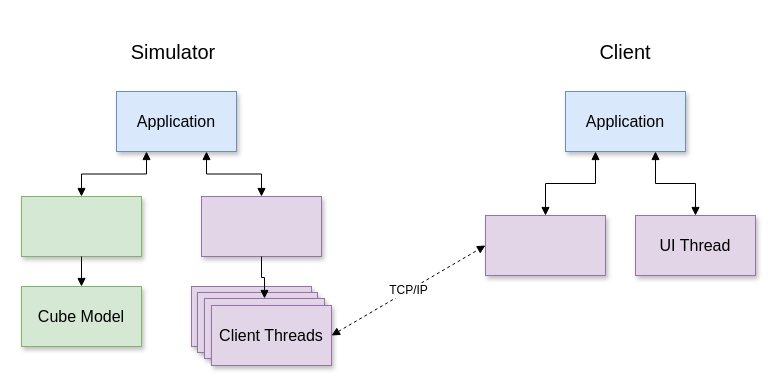
The diagram is 779 pixels wide and 390 high, and some of its shapes have lost their labels. Here are the shapes that lost their labels. From the top down, the centre of each, then its label:
point (82, 228): CubeSimulator
point (262, 228): ServerThread
point (546, 246): Socket Thread
